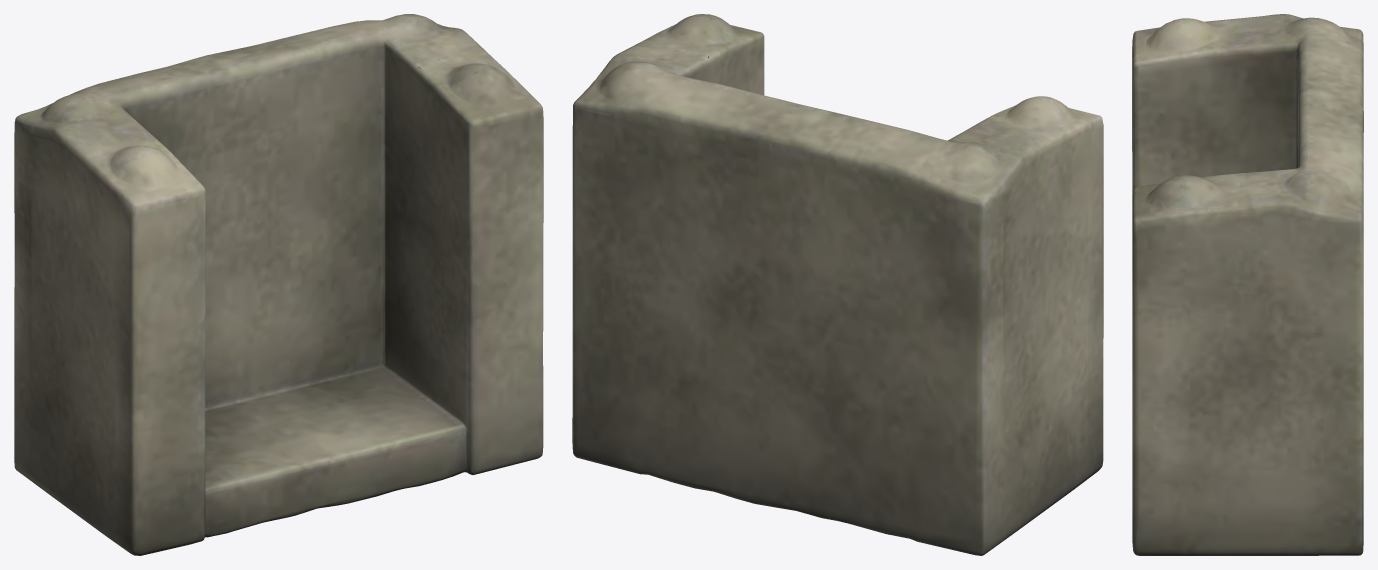
Rendered from simple-limestone-balcony-v002.glb.
The picture shows the model from 3 angles, left to right: view 1: azimuth 30°, elevation 25°; view 2: azimuth 150°, elevation 25°; view 3: azimuth 270°, elevation 25°; orthographic projection. The views are drawn at different scales.
Parts seen in each view (by area): view 1: simple-limestone-balcony; view 2: simple-limestone-balcony; view 3: simple-limestone-balcony.
Part boxes in pixels (x1,y1,x2,y2): simple-limestone-balcony: (14, 14, 543, 555); simple-limestone-balcony: (572, 14, 1103, 555); simple-limestone-balcony: (1132, 14, 1363, 555).
Size of the model in its own units: 1.35 by 1.2 by 0.6874.
1 material, 1 textured.
